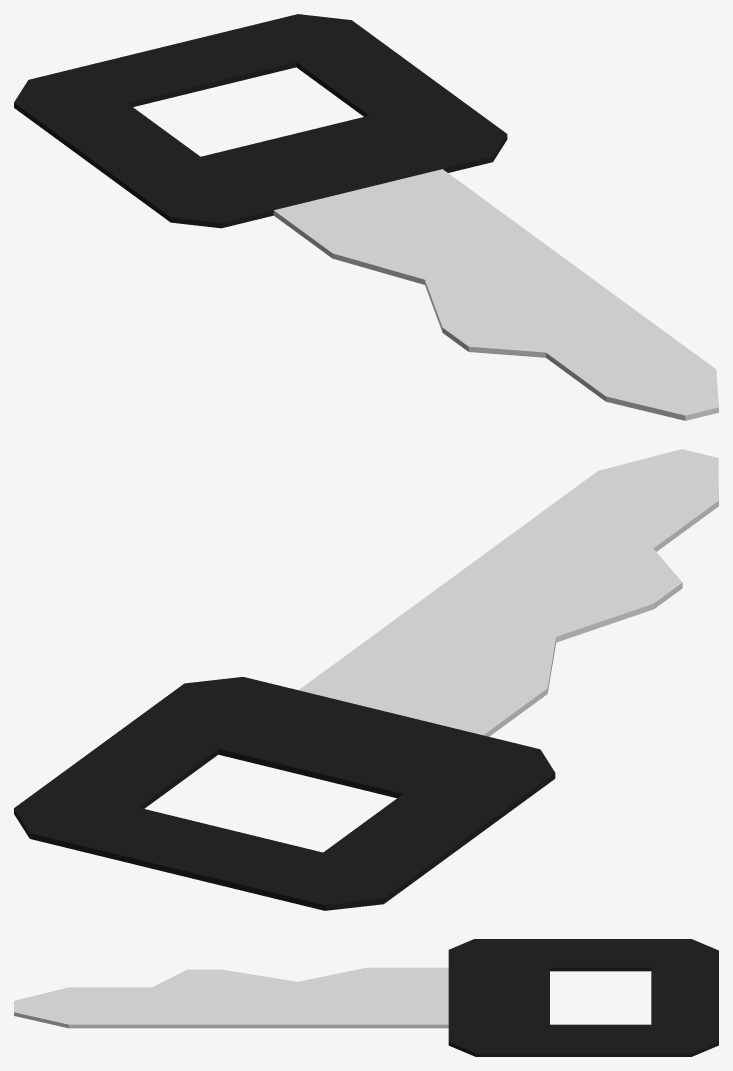
The model's file is Truckkeys.fbx.
The picture shows the model from 3 angles, top to bottom: view 1: azimuth 30°, elevation 25°; view 2: azimuth 150°, elevation 25°; view 3: azimuth 270°, elevation 25°; orthographic projection. The views are drawn at different scales.
Visible parts, largest first — view 1: TruckKeys; view 2: TruckKeys; view 3: TruckKeys.
Boxes of the visible parts, x1=… form: TruckKeys: x1=14, y1=14, x2=718, y2=420; TruckKeys: x1=14, y1=449, x2=718, y2=910; TruckKeys: x1=14, y1=939, x2=718, y2=1056.
Bounding box in the file's own units: 6.21 × 0.0935 × 16.2.
